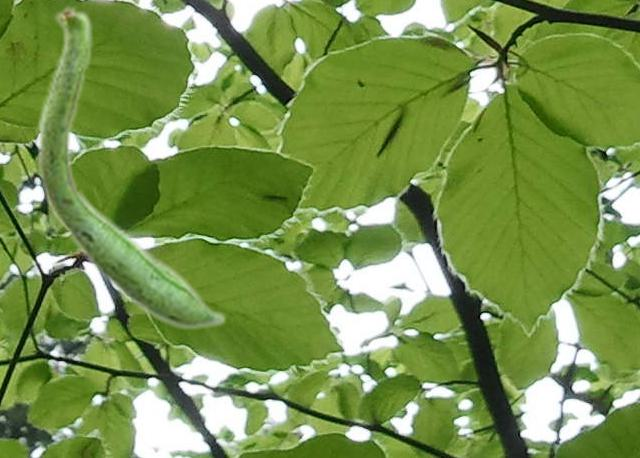french_bean: (36, 3, 226, 330)
